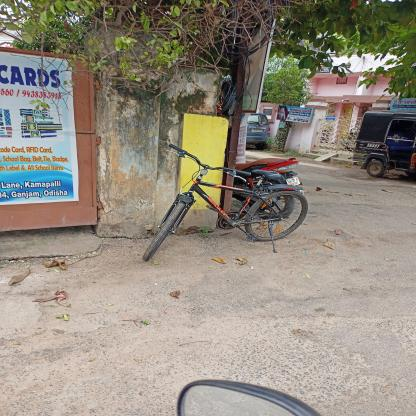bike: (126, 123, 338, 273)
